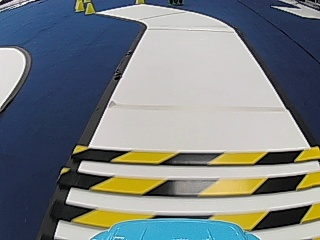bump: (50, 139, 316, 227)
